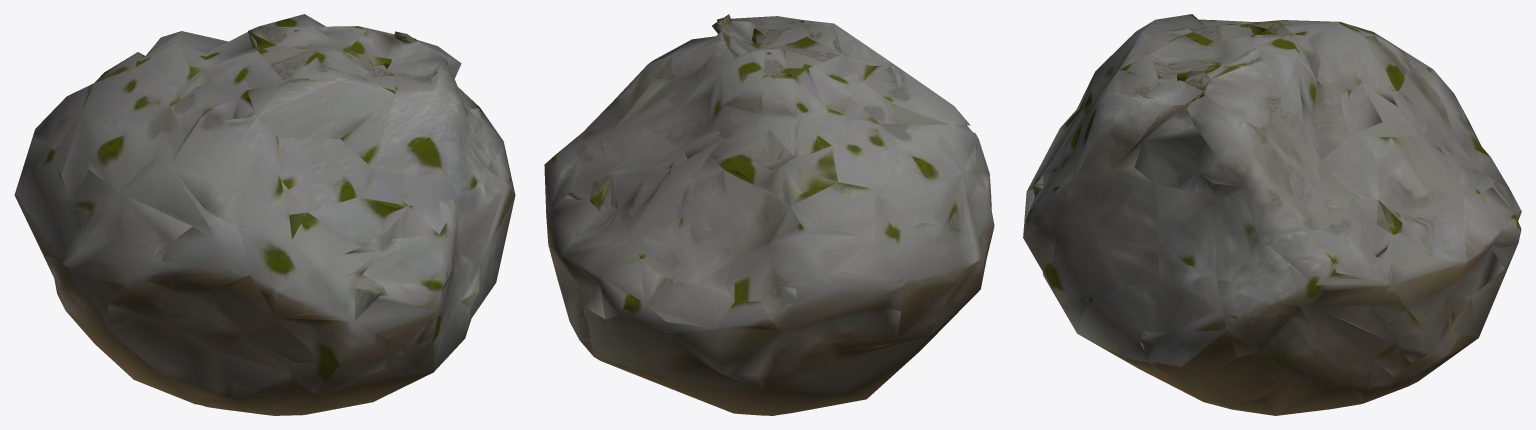
File: rock-temperate-boulder.glb
3 views of the same model, side by side, from view 1: azimuth 30°, elevation 25°; view 2: azimuth 150°, elevation 25°; view 3: azimuth 270°, elevation 25° (orthographic). The views are drawn at different scales.
Visible parts, largest first — view 1: tripo_node_41c1b4df-4837-4d03-a91b-e9e9d9688496; view 2: tripo_node_41c1b4df-4837-4d03-a91b-e9e9d9688496; view 3: tripo_node_41c1b4df-4837-4d03-a91b-e9e9d9688496.
Boxes of the visible parts, box(x1,y1,x2,y2) form: tripo_node_41c1b4df-4837-4d03-a91b-e9e9d9688496: box(14, 14, 515, 415); tripo_node_41c1b4df-4837-4d03-a91b-e9e9d9688496: box(544, 14, 994, 415); tripo_node_41c1b4df-4837-4d03-a91b-e9e9d9688496: box(1023, 14, 1521, 415).
Bounding box in the file's own units: 1.54 × 1.2 × 1.54.
Materials: 1 (1 with a texture image).
